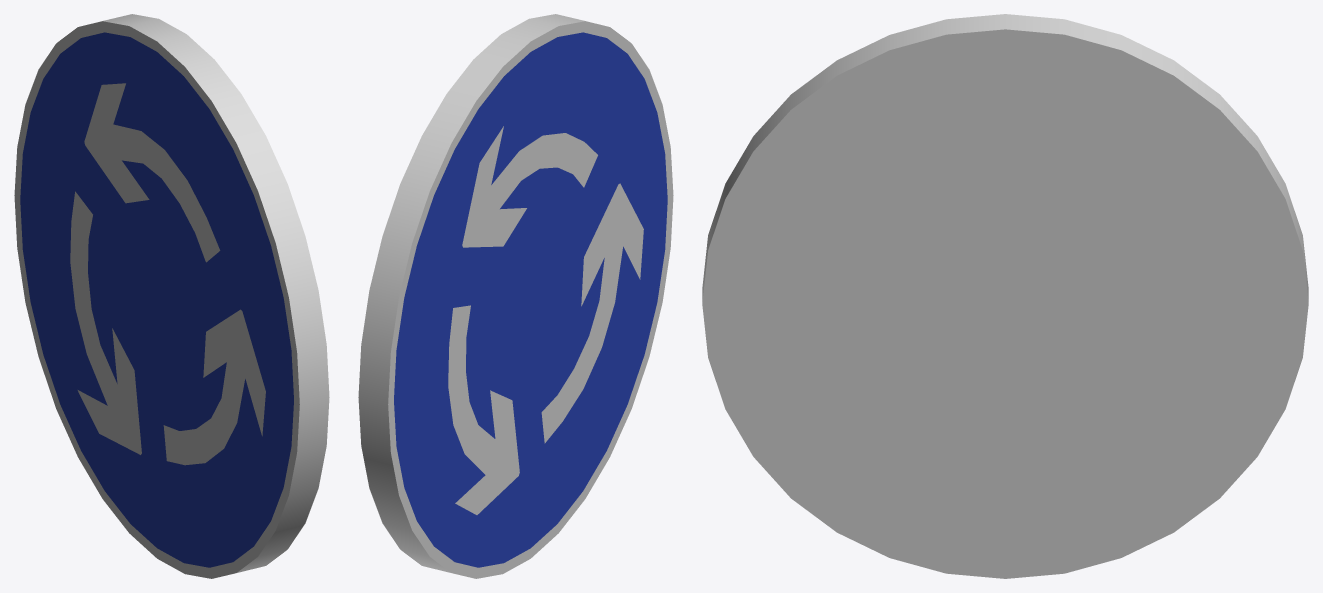
The model's file is RoundAbout_Driving.fbx.
The picture shows the model from 3 angles, left to right: view 1: azimuth 30°, elevation 25°; view 2: azimuth 150°, elevation 25°; view 3: azimuth 270°, elevation 25°; orthographic projection. The views are drawn at different scales.
Parts seen in each view (by area): view 1: RoundAbout_Driving; view 2: RoundAbout_Driving; view 3: RoundAbout_Driving.
Boxes of the visible parts, x1,y1,x2,y2 form: RoundAbout_Driving: (14, 14, 329, 578); RoundAbout_Driving: (358, 14, 673, 578); RoundAbout_Driving: (702, 14, 1308, 578).
Size of the model in its own units: 0.0643 by 1 by 1.
